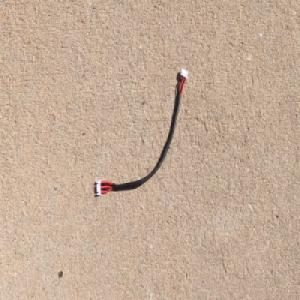Wire: (93, 64, 187, 195)
